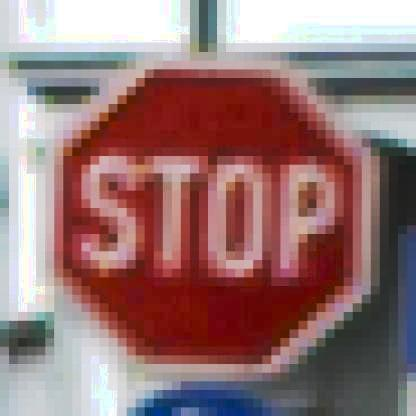Stop Sign: (41, 52, 380, 383)
